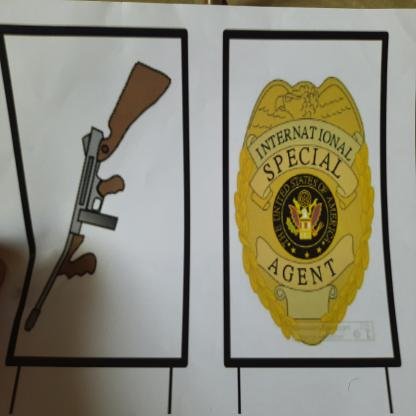Bootlegger: (21, 39, 178, 344)
G-man: (229, 38, 385, 360)
